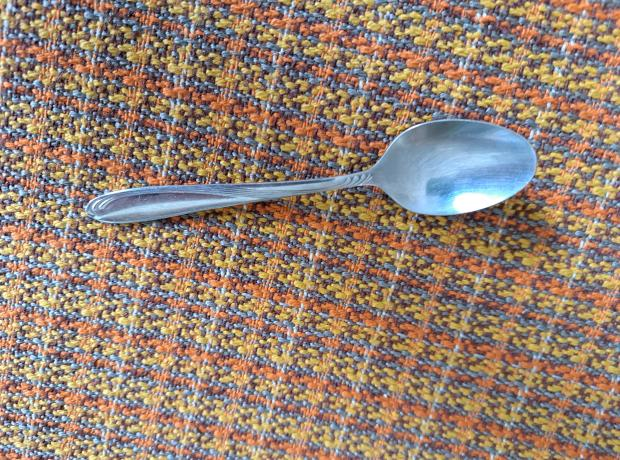metal: (82, 117, 541, 255)
